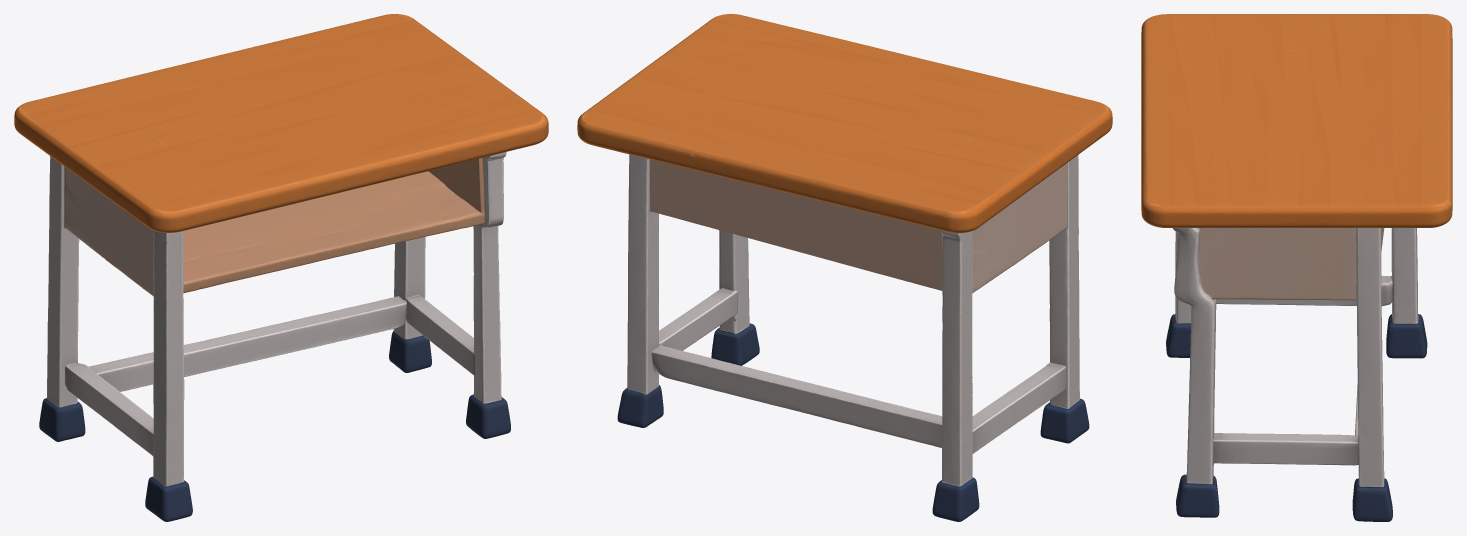
File: Meshy_AI_Classroom_Desk_1017064605_texture.fbx
3 renders of one model, left to right at view 1: azimuth 30°, elevation 25°; view 2: azimuth 150°, elevation 25°; view 3: azimuth 270°, elevation 25°, orthographic.
Visible parts, largest first — view 1: Mesh_0; view 2: Mesh_0; view 3: Mesh_0.
Part boxes in pixels (left/top/right/bottom): Mesh_0: left=14, top=14, right=548, bottom=521; Mesh_0: left=577, top=14, right=1112, bottom=521; Mesh_0: left=1141, top=14, right=1452, bottom=521.
Size of the model in its own units: 190 by 146 by 127.
Materials: 1 (1 with a texture image).
